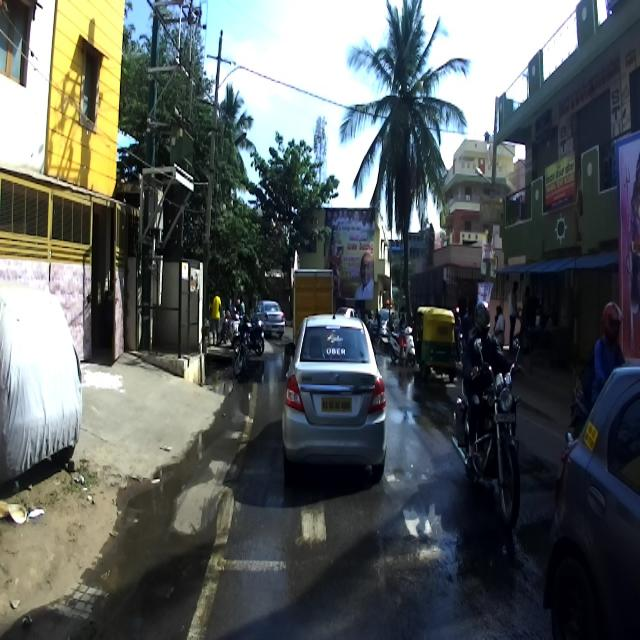car: (543, 364, 639, 639), (283, 299, 388, 485), (0, 286, 81, 486)
motorcycle: (450, 338, 523, 528)
